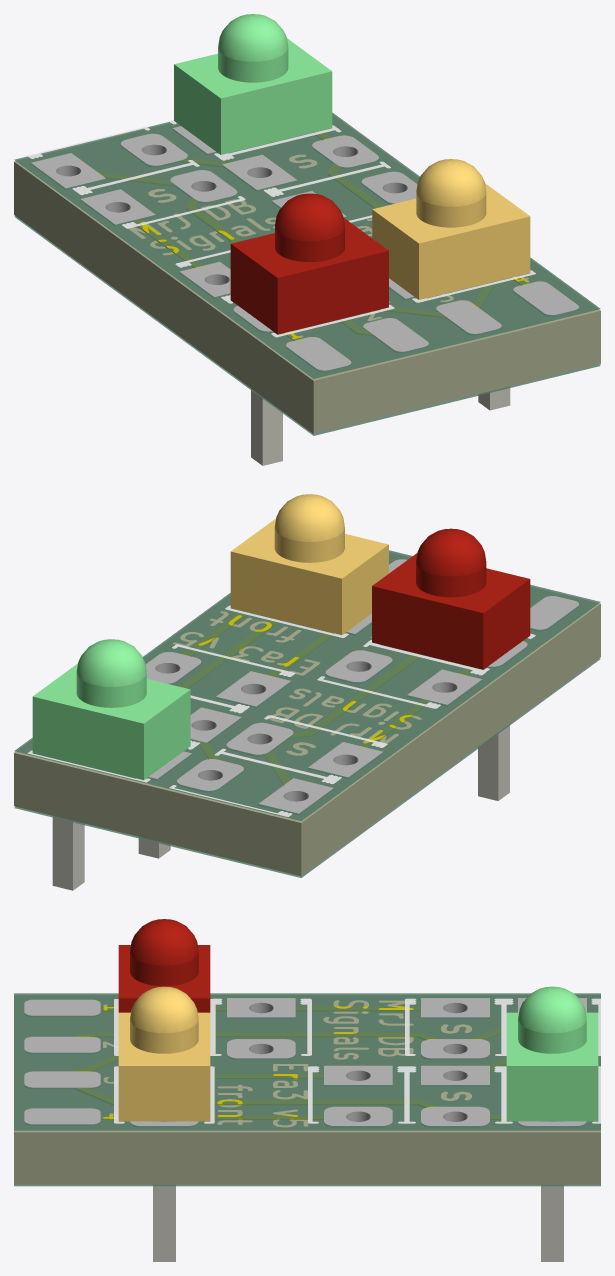
Rendered from MrJ-DB-Era3-prod-entry-Hp2.glb.
3 renders of one model, top to bottom at view 1: azimuth 30°, elevation 25°; view 2: azimuth 150°, elevation 25°; view 3: azimuth 270°, elevation 25°, orthographic. The views are drawn at different scales.
Parts seen in each view (by area): view 1: =>[0:1:1:13], =>[0:1:1:11], =>[0:1:1:5], =>[0:1:1:9], =>[0:1:1:3], =>[0:1:1:7], =>[0:1:1:10], =>[0:1:1:8], =>[0:1:1:12]; view 2: =>[0:1:1:13], =>[0:1:1:11], =>[0:1:1:7], =>[0:1:1:5], =>[0:1:1:3], =>[0:1:1:9], =>[0:1:1:8], =>[0:1:1:10], =>[0:1:1:12]; view 3: =>[0:1:1:13], =>[0:1:1:11], =>[0:1:1:9], =>[0:1:1:3], =>[0:1:1:7], =>[0:1:1:5], =>[0:1:1:8], =>[0:1:1:10], =>[0:1:1:12].
Part boxes in pixels (x1,y1,x2,y2): =>[0:1:1:13]: (14,115,600,433); =>[0:1:1:11]: (14,112,600,378); =>[0:1:1:5]: (230,193,388,465); =>[0:1:1:9]: (31,126,578,371); =>[0:1:1:3]: (372,159,530,410); =>[0:1:1:7]: (174,14,332,154); =>[0:1:1:10]: (27,120,535,337); =>[0:1:1:8]: (98,133,529,340); =>[0:1:1:12]: (14,216,600,435); =>[0:1:1:13]: (14,552,600,876); =>[0:1:1:11]: (14,550,600,821); =>[0:1:1:7]: (32,639,190,890); =>[0:1:1:5]: (372,528,530,800); =>[0:1:1:3]: (230,494,388,634); =>[0:1:1:9]: (145,559,578,814); =>[0:1:1:8]: (180,613,530,784); =>[0:1:1:10]: (27,605,535,816); =>[0:1:1:12]: (14,658,600,877); =>[0:1:1:13]: (14,995,600,1184); =>[0:1:1:11]: (14,993,600,1130); =>[0:1:1:9]: (24,998,586,1126); =>[0:1:1:3]: (118,986,210,1261); =>[0:1:1:7]: (506,986,598,1261); =>[0:1:1:5]: (118,919,210,1012); =>[0:1:1:8]: (75,1006,505,1119); =>[0:1:1:10]: (114,998,600,1123); =>[0:1:1:12]: (14,1184,600,1186).
Size of the model in its own units: 0.00851 by 0.0071 by 0.0154.
